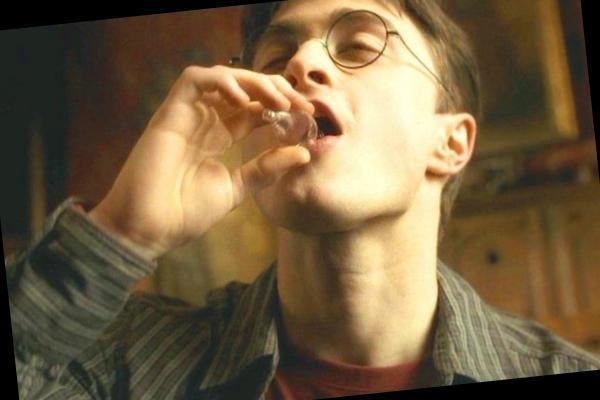Drunk: (255, 15, 414, 214)
